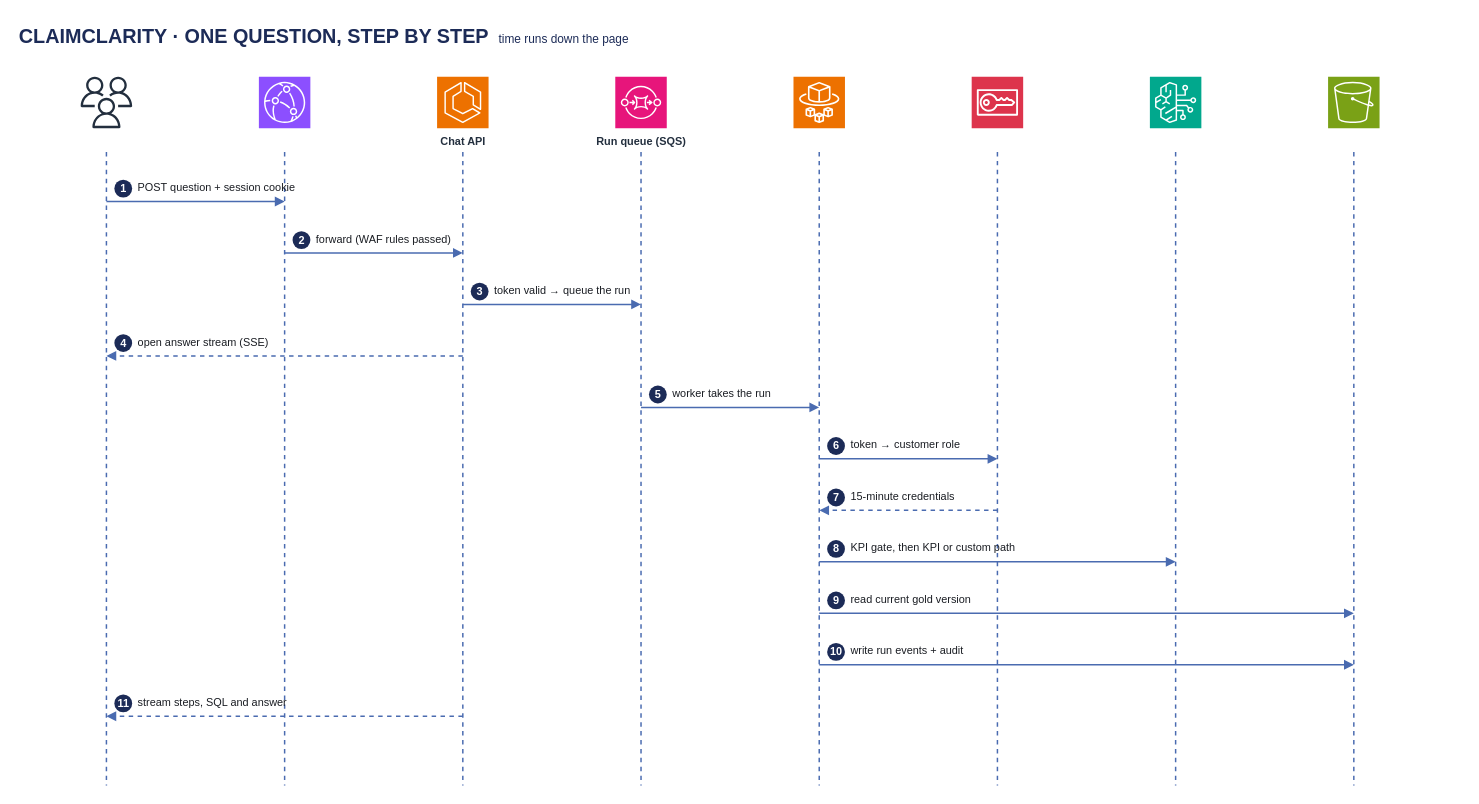
Image size: 1479x804. Some labels were removed from this diagram. Each missing label, with the box of its shape:
Bedrock (Haiku): (1149, 76, 1201, 128)
Browser: (80, 76, 132, 128)
CloudFront + WAF: (258, 76, 310, 128)
Run worker + analyzer: (792, 76, 845, 128)
S3 · customer prefix: (1327, 76, 1380, 128)
STS: (971, 76, 1023, 128)
